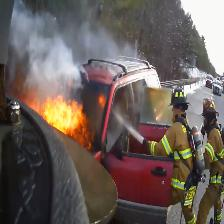fire: (5, 58, 98, 152)
nofire: (100, 146, 181, 215)
smoke: (9, 0, 145, 93)
